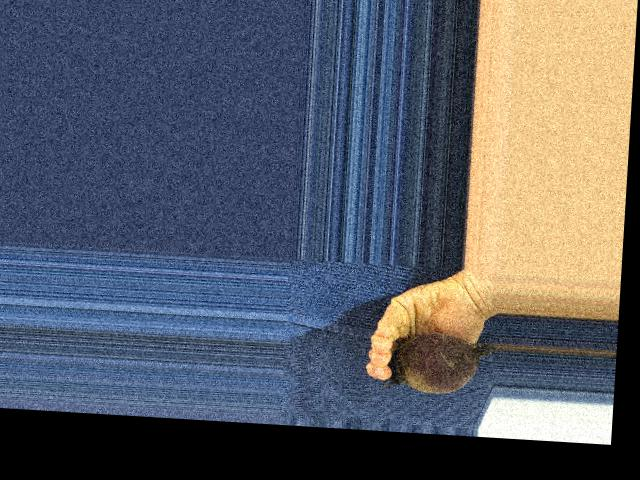beet: (380, 328, 495, 396)
